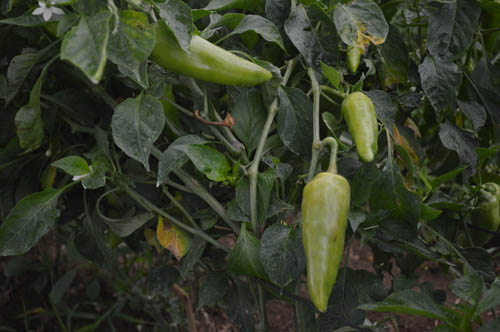ChiliPepper: (150, 25, 268, 87), (301, 175, 351, 311), (341, 93, 381, 157)
